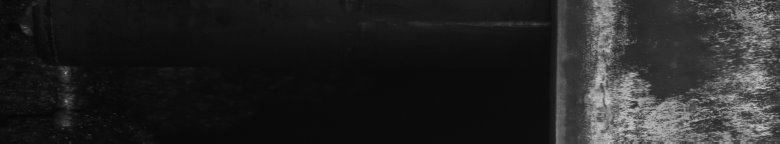kb: (579, 4, 776, 136)
